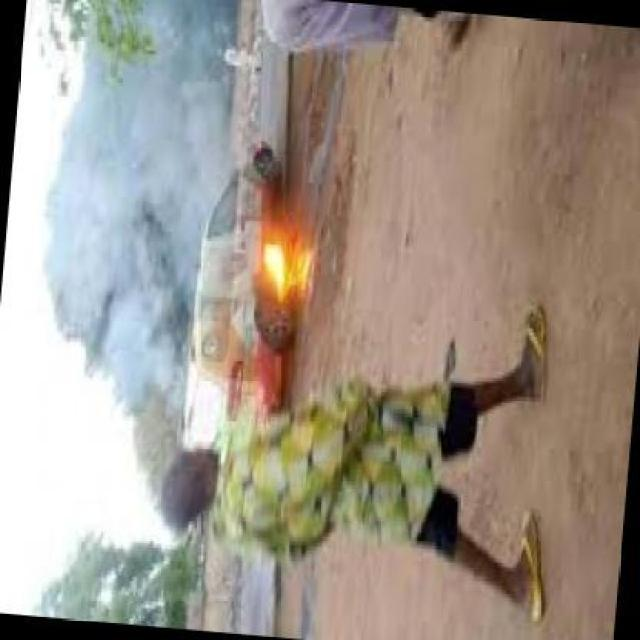Fire: (249, 236, 319, 314)
Smoke: (46, 23, 242, 390)
